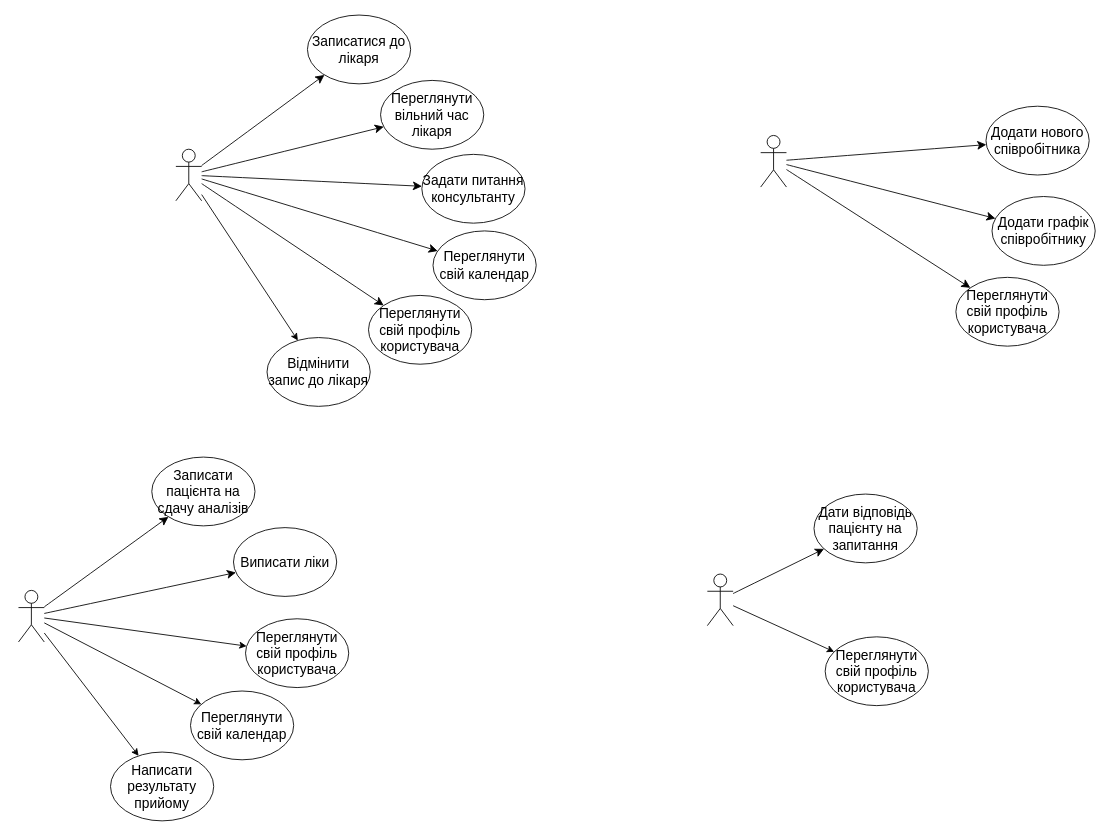
Image size: 1110x836. Some labels were removed from this diagram. Here are the shapes that lost their labels. From the top down, the centre of each, then its label:
point (188, 174): Пацієнт
point (773, 161): Адміністратор
point (31, 616): Лікар
point (719, 599): Консультант
